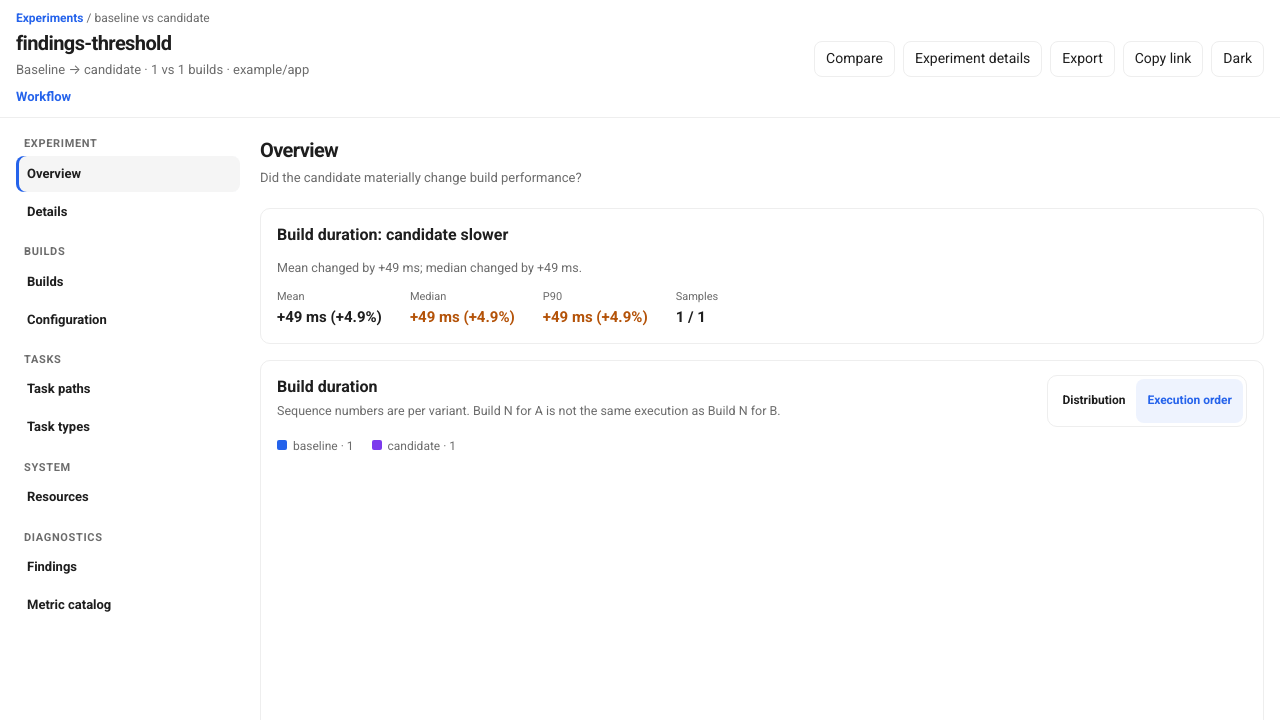
Test: ReportApp › opens Configuration from a 5% findings row and hides sub-5% duration
The image size is (1280, 720).
Expected: the heading "findings-threshold" is shown, [16, 31, 171, 55]
Expected: the button "Builds" is shown, [16, 264, 240, 300]
Click the button "Findings": (128, 568) [16, 550, 240, 586]
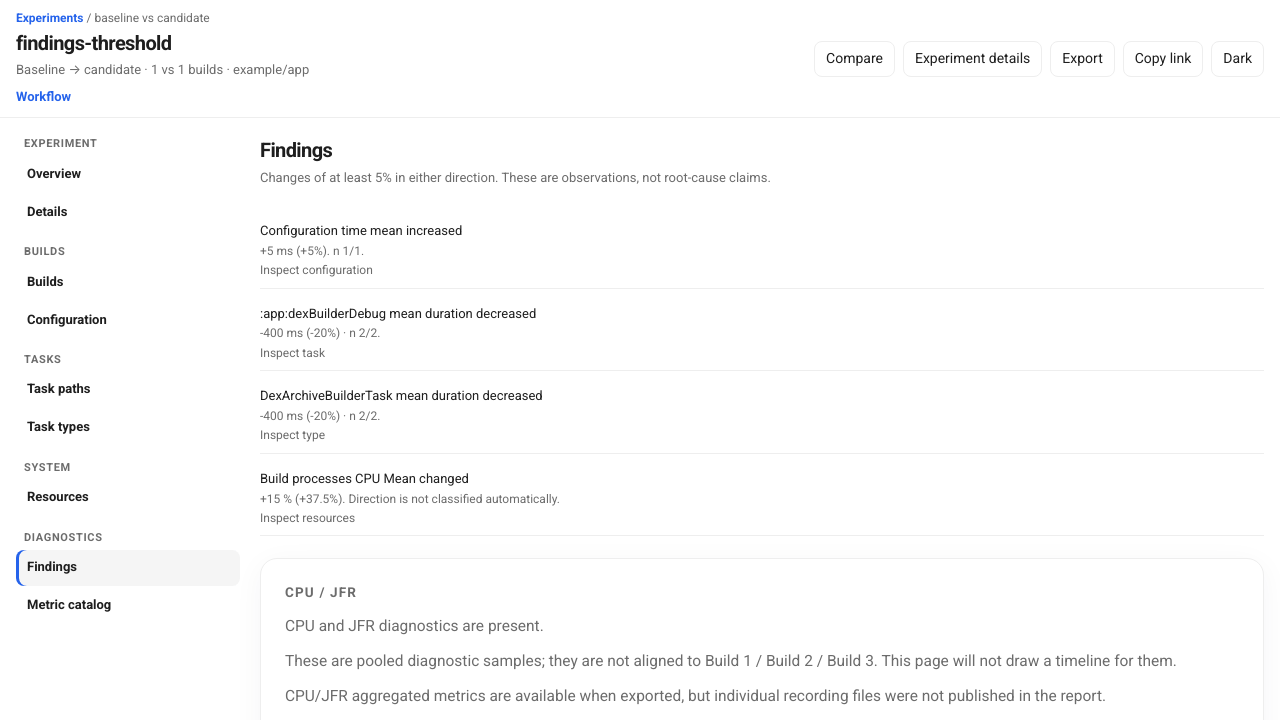
Expected: the heading "Findings" is shown, [260, 138, 332, 162]
Expected: the text "Changes of at least 5% in either direction" is shown, [260, 170, 771, 185]
Expected: the text "Configuration time mean increased" is shown, [260, 223, 462, 238]
Click the button "Inspect configuration": (361, 230) [260, 214, 1264, 288]
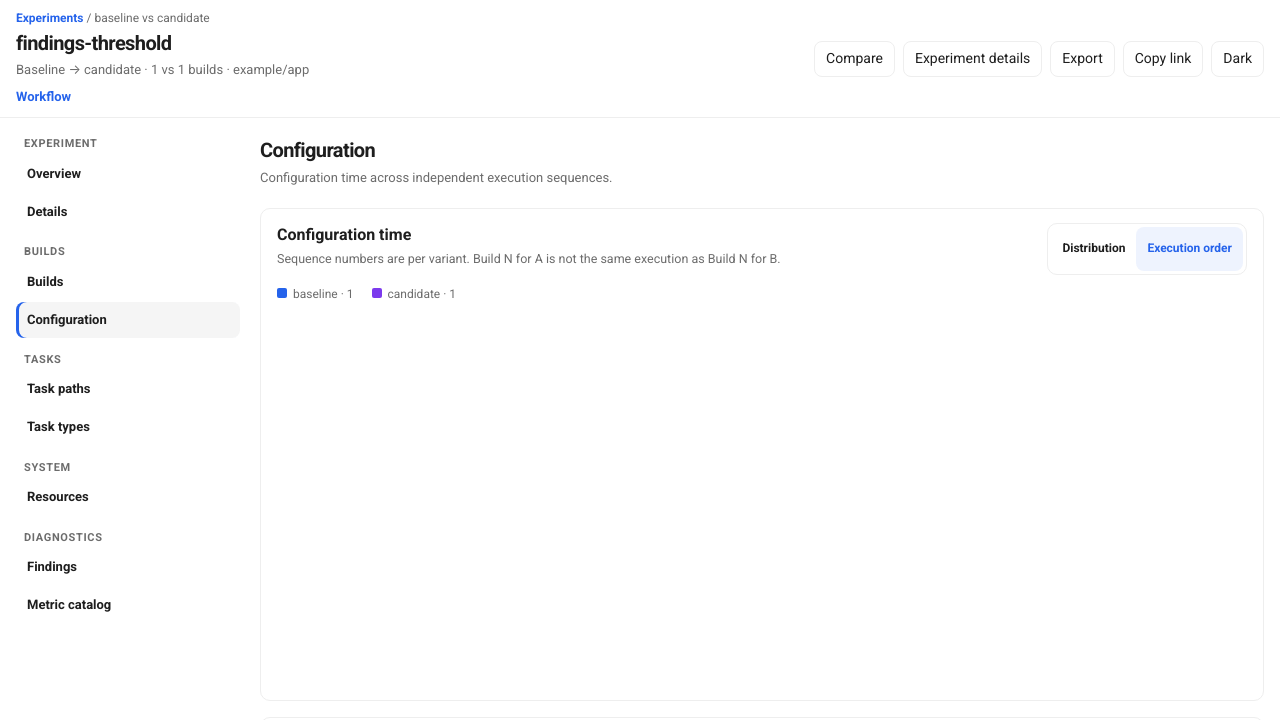
Expected: the heading "Build duration" is not shown
Expected: the heading "Configuration time" is shown, [277, 225, 411, 244]
